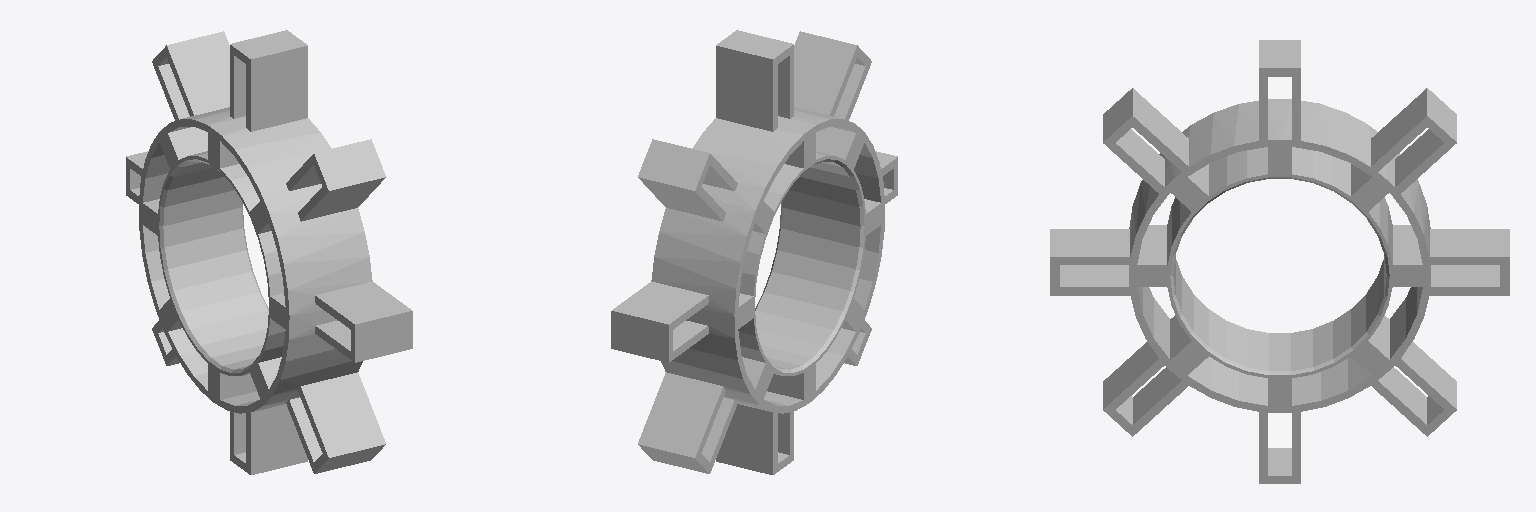
The model's file is Holder.obj.
The picture shows the model from 3 angles: view 1: azimuth 30°, elevation 25°; view 2: azimuth 150°, elevation 25°; view 3: azimuth 270°, elevation 25°; orthographic projection.
Parts seen in each view (by area): view 1: Держатель_подштпника; view 2: Держатель_подштпника; view 3: Держатель_подштпника.
Boxes of the visible parts, x1=… form: Держатель_подштпника: x1=126, y1=30, x2=412, y2=474; Держатель_подштпника: x1=611, y1=30, x2=897, y2=474; Держатель_подштпника: x1=1050, y1=40, x2=1509, y2=483.
Bounding box in the file's own units: 16 × 76 × 76.